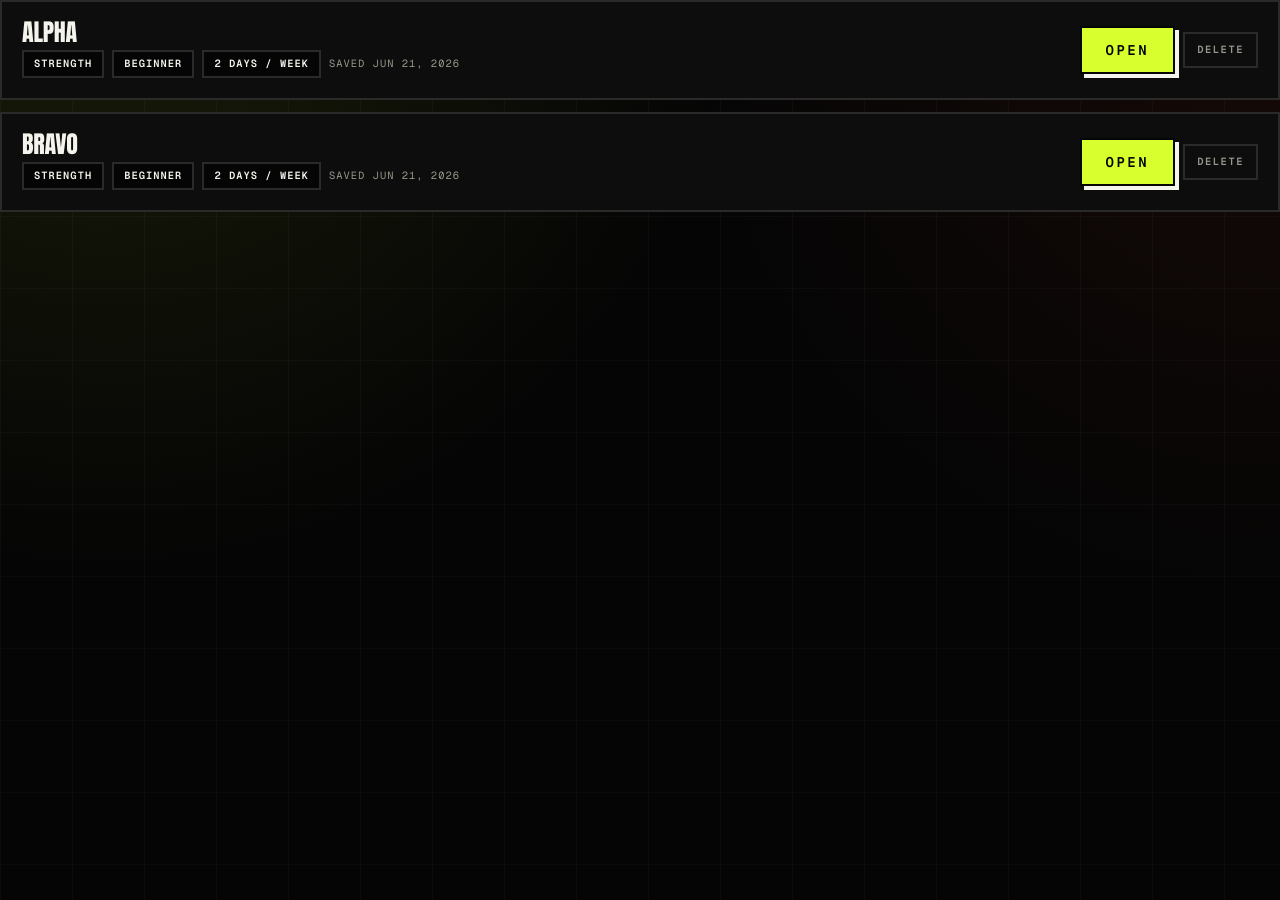
MyPlansView › requires confirmation before deleting, then removes the plan
The image size is (1280, 900).
What coordinates should you click on to do the following:
click the button with aria-label "delete alpha"
I would click on:
 (1221, 50)
Its box is 1183,32 -> 1258,68.
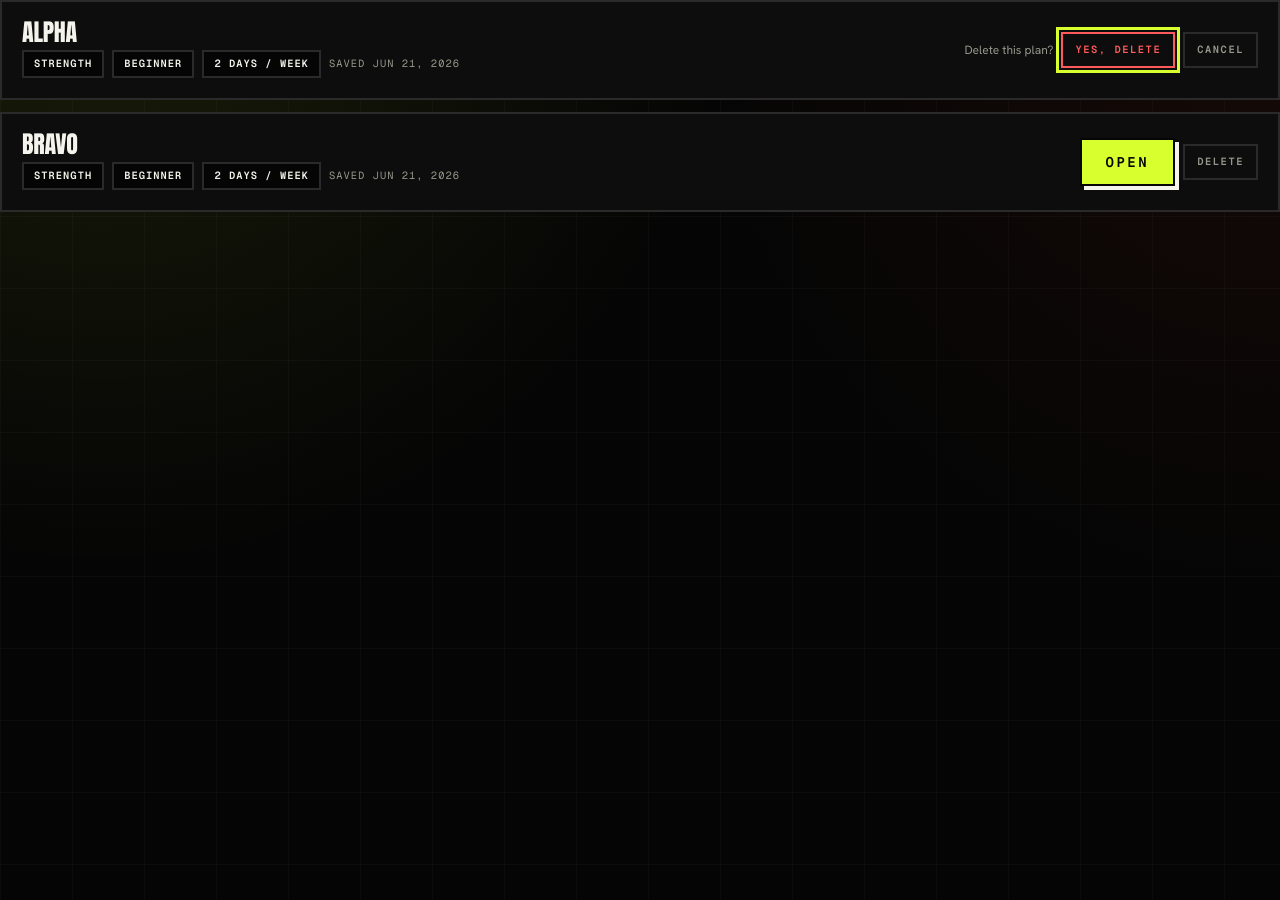
Expected: the text "Delete this plan?" is shown, 964,42 -> 1053,58
What coordinates should you click on to do the following:
click the button "Yes, delete"
I would click on:
 (1118, 50)
Its box is 1062,32 -> 1175,68.
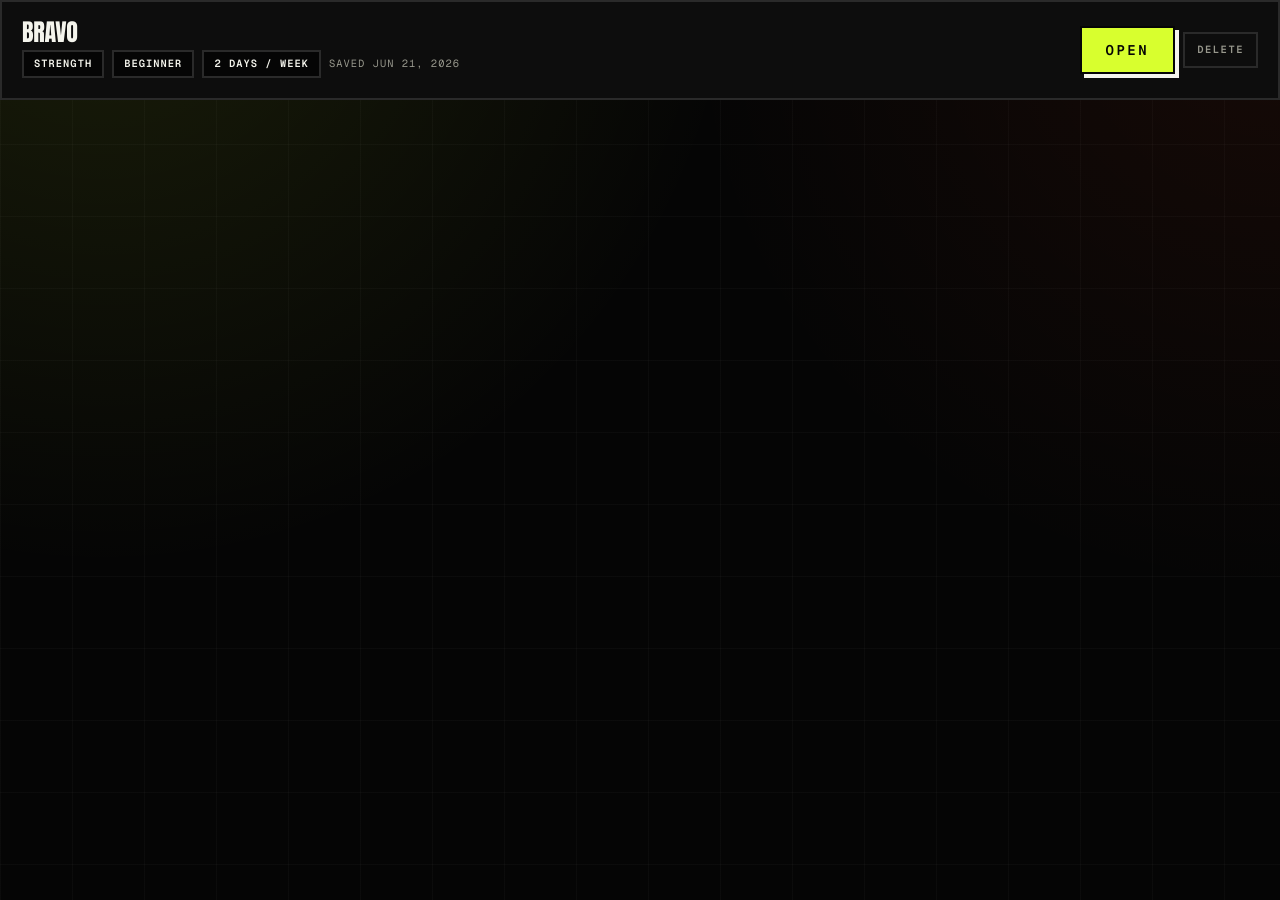
Expected: the heading "Bravo" is shown, 22,14 -> 78,50
Expected: the heading "Alpha" is gone
